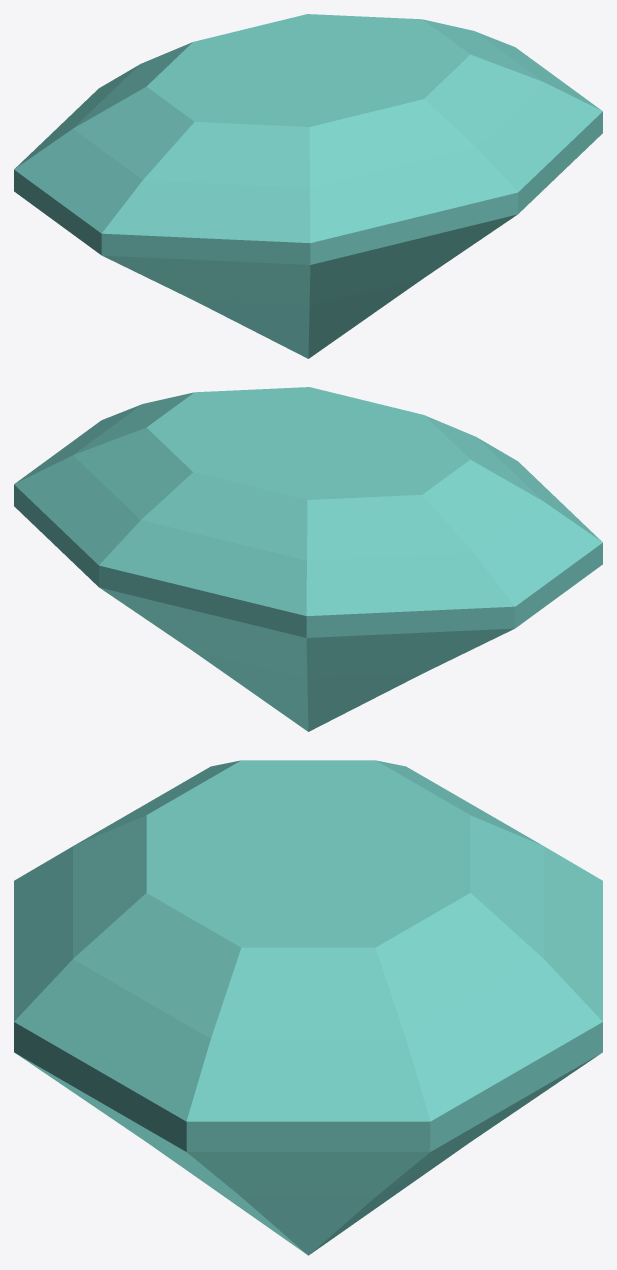
Rendered from alexandrite-glass.glb.
3 renders of one model, top to bottom at view 1: azimuth 30°, elevation 25°; view 2: azimuth 150°, elevation 25°; view 3: azimuth 270°, elevation 25°, orthographic. The views are drawn at different scales.
Parts seen in each view (by area): view 1: Alexandrite; view 2: Alexandrite; view 3: Alexandrite.
Boxes of the visible parts, left/top/right/bottom form: Alexandrite: left=14, top=14, right=602, bottom=358; Alexandrite: left=14, top=387, right=602, bottom=731; Alexandrite: left=14, top=760, right=602, bottom=1255.
Size of the model in its own units: 2.4 by 1.32 by 1.76.
